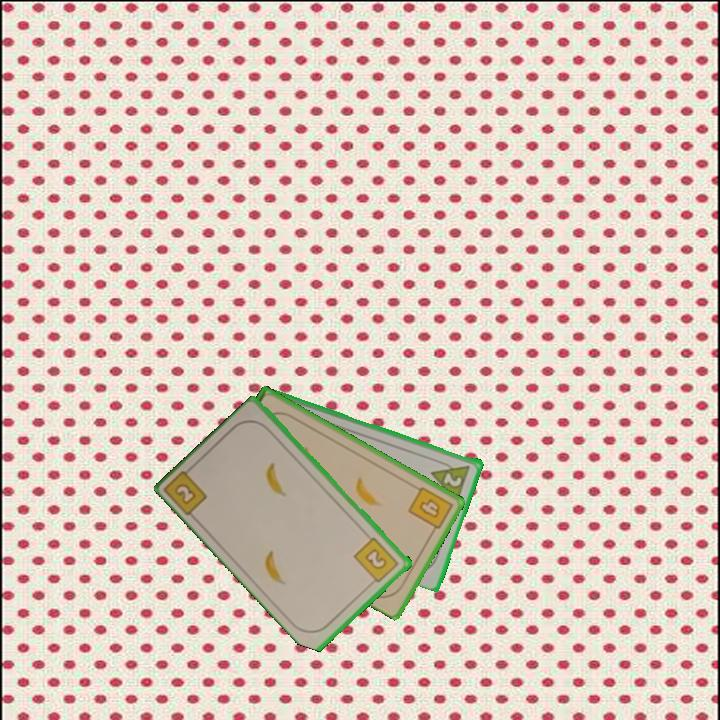2b: (163, 461, 211, 519), (351, 534, 402, 588)
2p: (428, 455, 473, 503)
4b: (404, 483, 456, 537)
